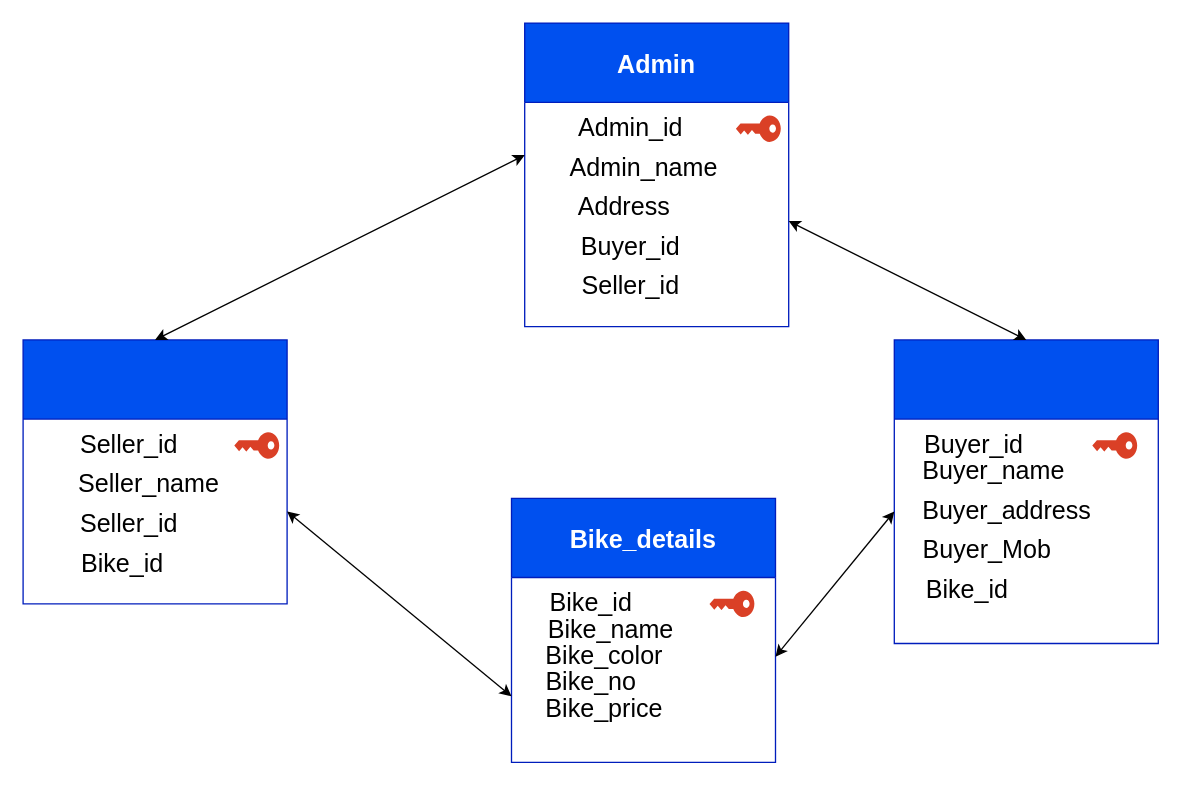
Image size: 1181x785. Some labels were removed from this diagram. The shapes that lost their labels are listed below. From the top down, each one's box as (x1, y1, x2, y2) in pixels, then its label:
(22, 339, 287, 604): Seller_details
(893, 339, 1158, 644): Buyer_details
